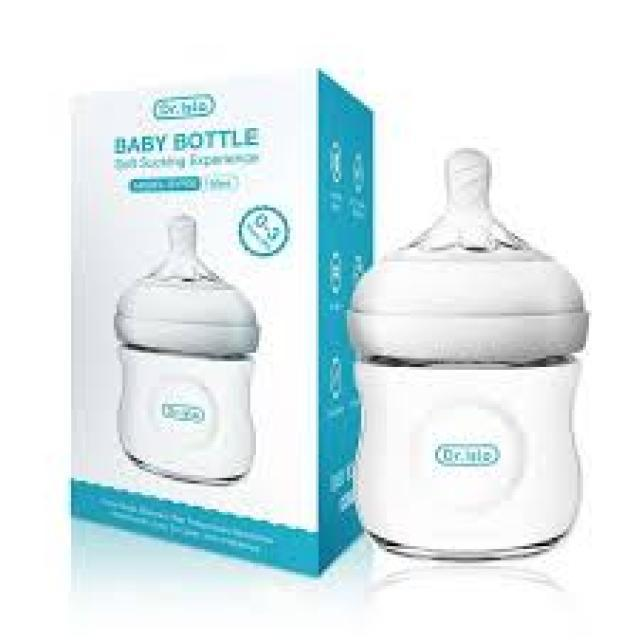good: (342, 130, 608, 562)
